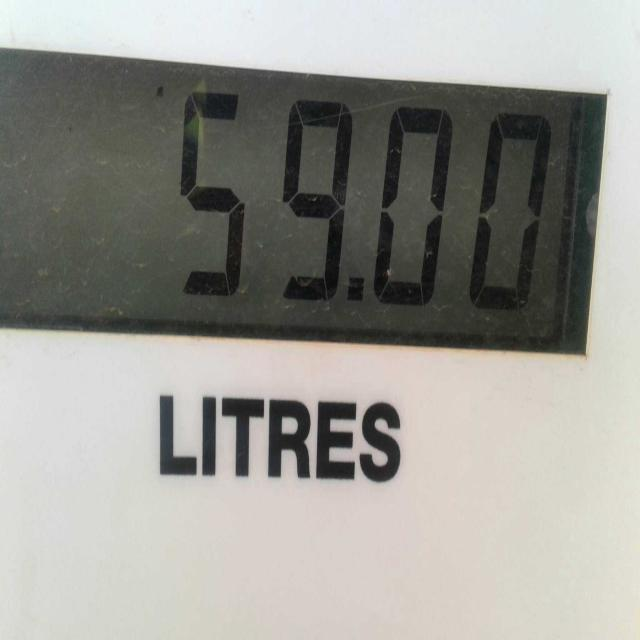.: (343, 253, 373, 341)
0: (369, 92, 464, 329), (473, 97, 553, 321)
5: (175, 78, 260, 325)
9: (276, 86, 351, 308)
